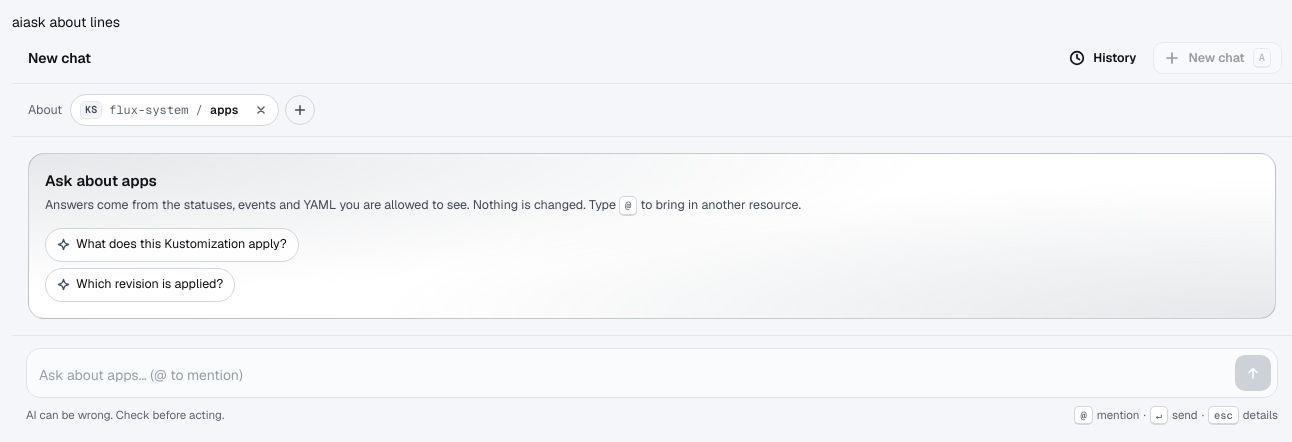
Test: Ask AI chats › history › deletes a chat after confirming
Click the button "History".
click(1103, 58)  # box [1058,42,1148,74]
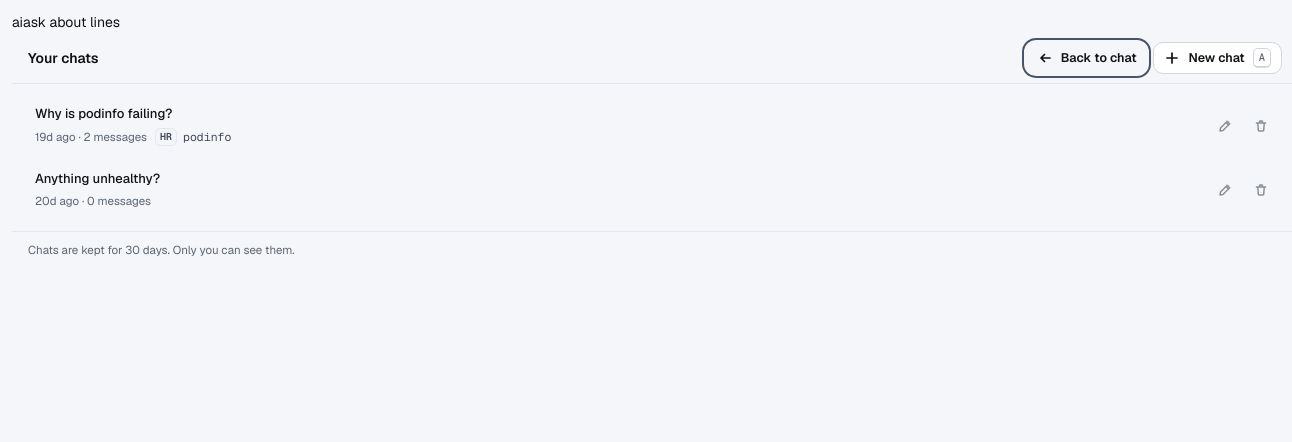
Click the button named "Delete Anything unhealthy?".
click(1261, 190)  # box [1245,174,1277,206]
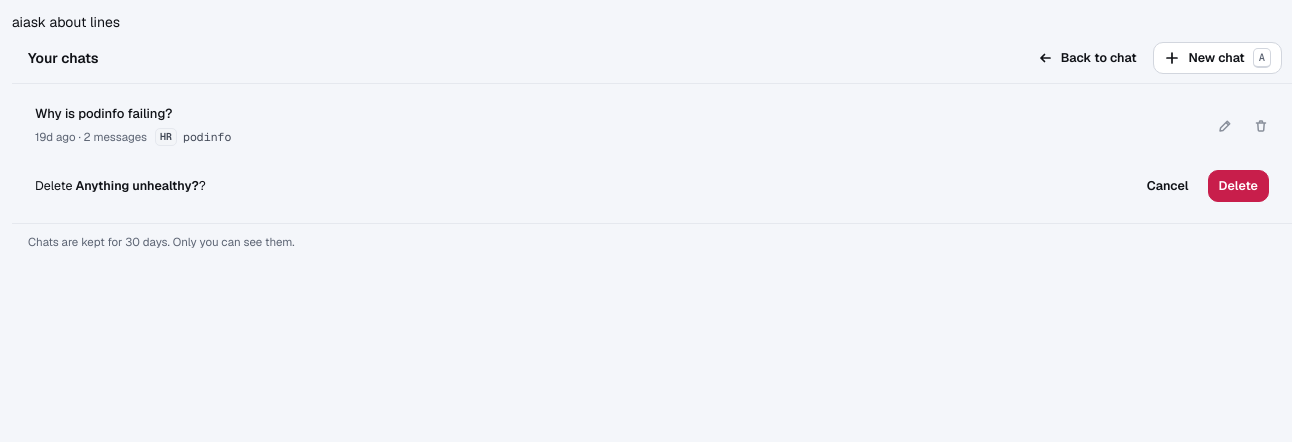
Click the button "Delete".
click(1238, 186)  # box [1208,170,1269,202]
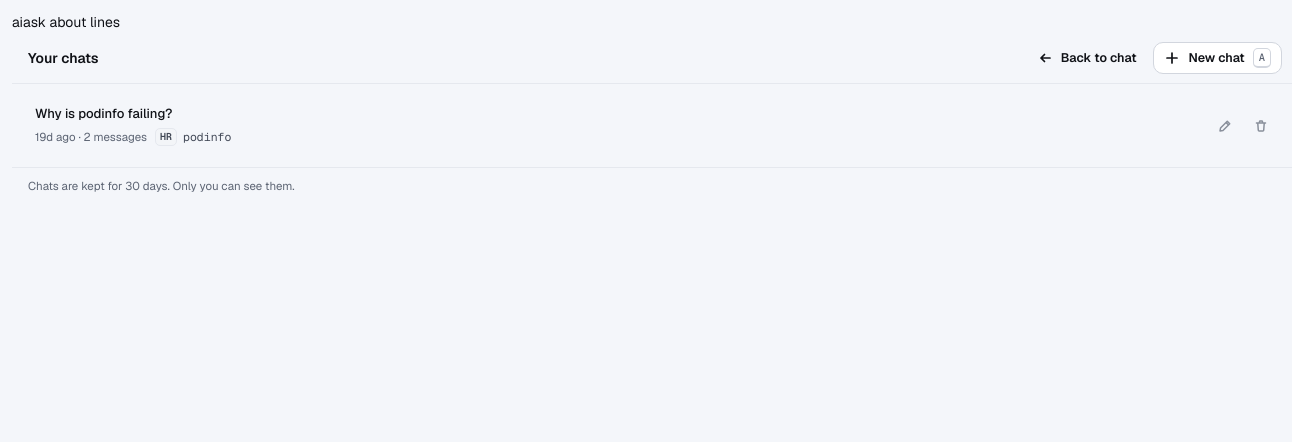
Check: the text "Why is podinfo failing?" is shown, box [35,105,172,122]
Check: the text "Anything unhealthy?" is gone
